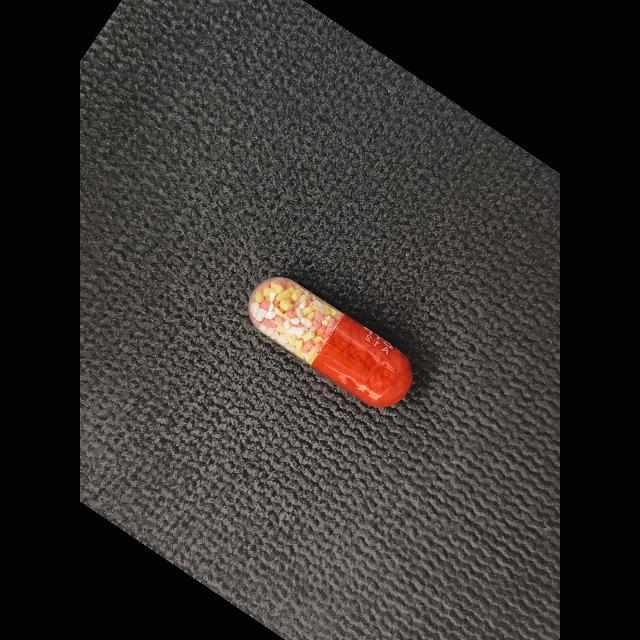Intact Capsule: (248, 278, 413, 407)
